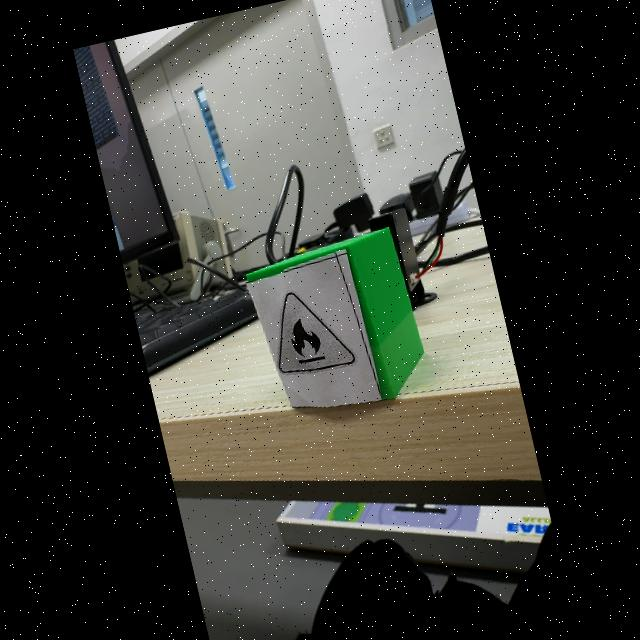Fire: (278, 293, 354, 373)
